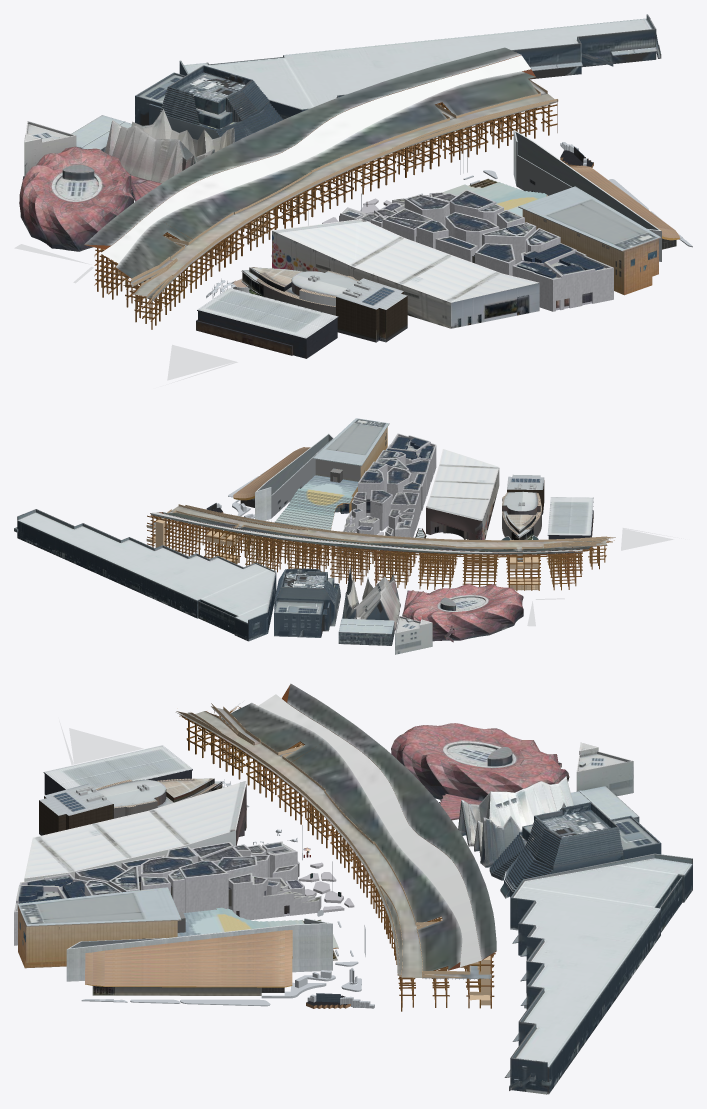
The picture shows the model from 3 angles, top to bottom: view 1: azimuth 30°, elevation 25°; view 2: azimuth 150°, elevation 25°; view 3: azimuth 270°, elevation 25°; orthographic projection. The views are drawn at different scales.
Visible parts, largest first — view 1: Buildings_建物パビリオン, GrandRoofRing_大屋根リング, Facilities_都市設備; view 2: Buildings_建物パビリオン, GrandRoofRing_大屋根リング, Facilities_都市設備; view 3: Buildings_建物パビリオン, GrandRoofRing_大屋根リング, Facilities_都市設備.
Boxes of the visible parts, x1,y1,x2,y2 form: Buildings_建物パビリオン: [14, 14, 679, 386]; GrandRoofRing_大屋根リング: [84, 47, 558, 329]; Facilities_都市設備: [206, 142, 692, 298]; Buildings_建物パビリオン: [14, 418, 685, 654]; GrandRoofRing_大屋根リング: [146, 504, 615, 591]; Facilities_都市設備: [206, 471, 540, 559]; Buildings_建物パビリオン: [14, 720, 692, 1094]; GrandRoofRing_大屋根リング: [175, 683, 496, 1011]; Facilities_都市設備: [81, 779, 374, 1008].
Bounding box in the file's own units: 287 × 21.26 × 219.
Materials: 32 (29 with a texture image).
